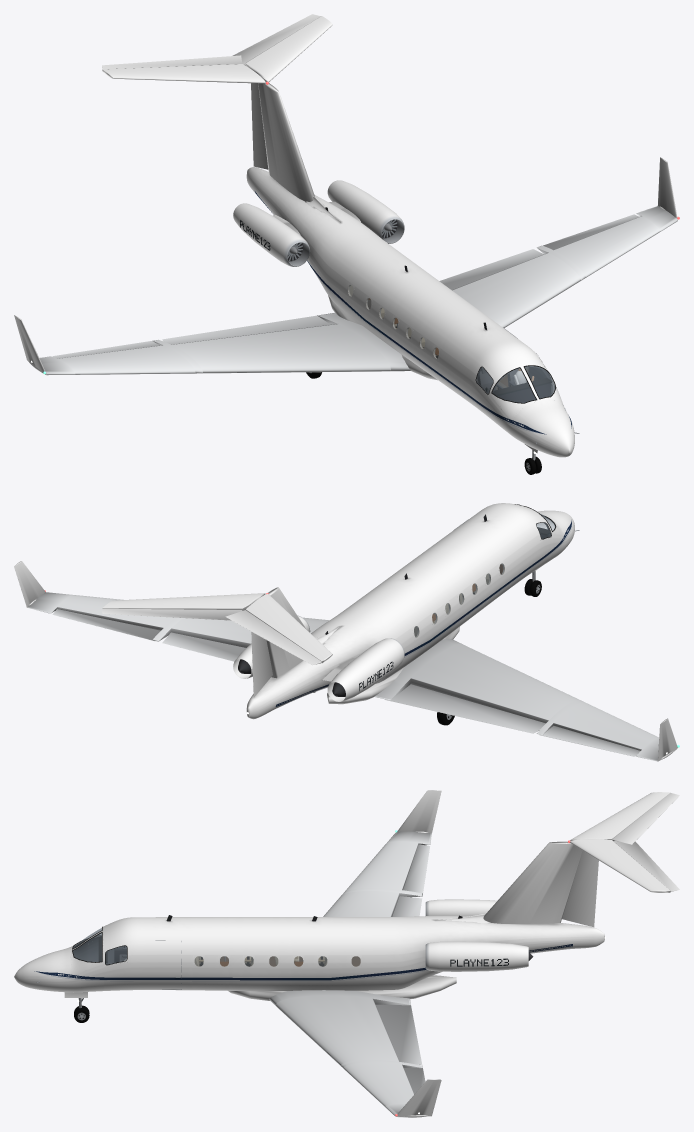
Rendered from praetor600.glb.
3 renders of one model, top to bottom at view 1: azimuth 30°, elevation 25°; view 2: azimuth 150°, elevation 25°; view 3: azimuth 270°, elevation 25°, orthographic. The views are drawn at different scales.
Visible parts, largest first — view 1: body, canopy, flapR, flapL, rudder, elevR, elevL; view 2: body, flapR, elevR, flapL, elevL, ailL, ailR, rudder, canopy; view 3: body, rudder, flapL, canopy, elevR, ailR, elevL, flapR.
Boxes of the visible parts, x1,y1,x2,y2 form: body: (14, 16, 679, 457); canopy: (348, 285, 554, 402); flapR: (162, 315, 330, 344); flapL: (439, 249, 543, 289); rudder: (251, 83, 268, 169); elevR: (102, 55, 242, 70); elevL: (232, 14, 320, 65); body: (14, 503, 679, 761); flapR: (384, 684, 545, 733); elevR: (225, 610, 322, 665); flapL: (162, 632, 245, 661); elevL: (102, 608, 242, 620); ailL: (52, 609, 160, 641); ailR: (539, 725, 640, 756); rudder: (251, 632, 272, 697); canopy: (414, 514, 554, 637); body: (14, 790, 670, 1117); rudder: (562, 851, 598, 927); flapL: (376, 1004, 422, 1064); canopy: (73, 928, 360, 966); elevR: (612, 793, 679, 844); ailR: (403, 844, 429, 893); elevL: (614, 841, 679, 891); flapR: (392, 896, 422, 916).
Size of the model in its own units: 21.24 by 6.25 by 20.63.
